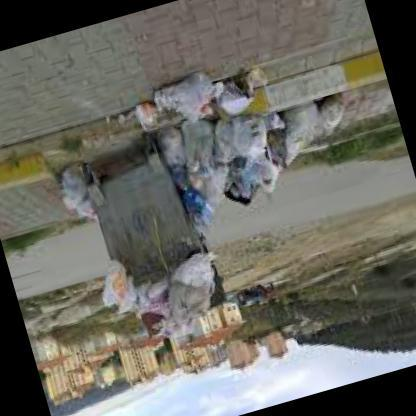Garbage: (172, 86, 348, 204), (105, 254, 222, 350), (86, 240, 178, 356), (186, 115, 258, 226), (158, 250, 230, 326), (236, 110, 293, 181), (210, 70, 280, 126), (156, 61, 219, 123), (312, 95, 356, 140), (58, 166, 90, 227), (121, 93, 158, 136)
